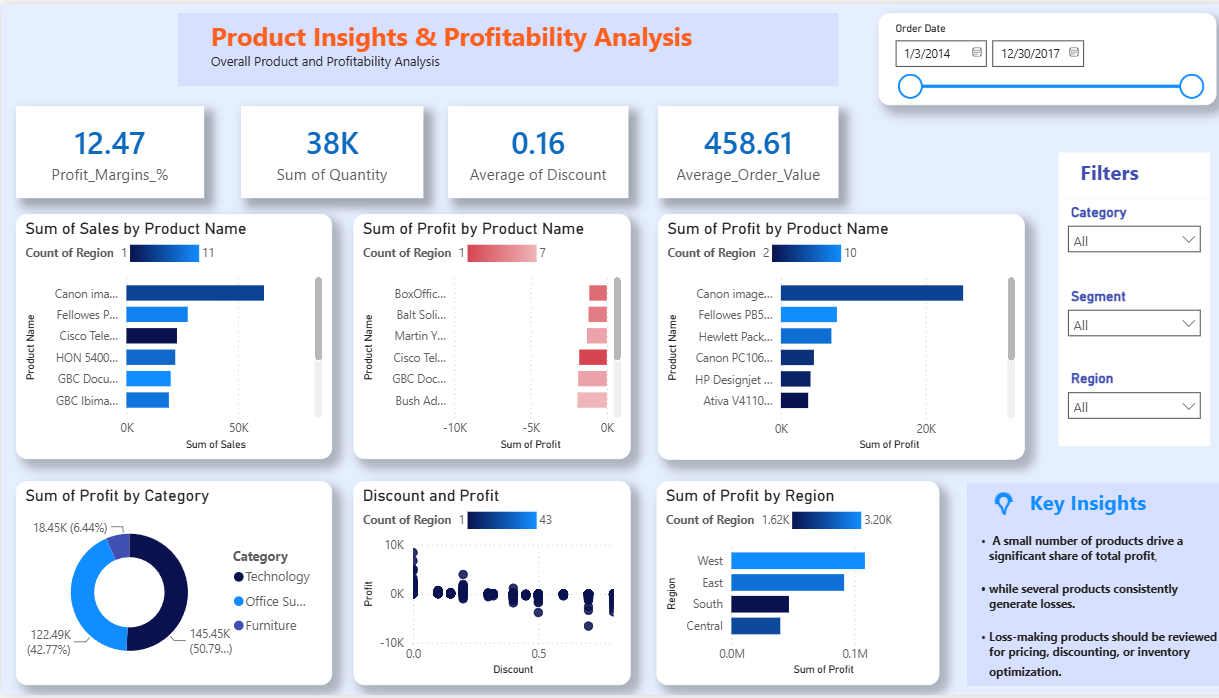

Layout of this report page (visuals, bound fields, positions):
{"tool":"powerbi","page":{"name":"Page 2","canvas":[1280,720],"ordinal":1},"visuals":[{"type":"cardVisual","fields":{"Data":["superstore_cleaned (1).Profit_Margins_%"]},"box":[16,106,196,96],"z":0},{"type":"cardVisual","fields":{"Data":["Avg(superstore_cleaned (1).Discount)"]},"box":[466,106,188,96],"z":1000},{"type":"cardVisual","fields":{"Data":["superstore_cleaned (1).Average_Order_Value"]},"box":[684,106,188,96],"z":2000},{"type":"cardVisual","fields":{"Data":["Sum(superstore_cleaned (1).Quantity)"]},"box":[250,106,190,96],"z":3000},{"type":"clusteredBarChart","fields":{"Category":["superstore_cleaned (1).Product Name"],"Y":["Sum(superstore_cleaned (1).Sales)"]},"box":[15.3,218.1,329.2,255.6],"z":4000},{"type":"clusteredBarChart","fields":{"Category":["superstore_cleaned (1).Product Name"],"Y":["Sum(superstore_cleaned (1).Profit)"]},"box":[684,218,382,256],"z":5000},{"type":"clusteredBarChart","fields":{"Category":["superstore_cleaned (1).Product Name"],"Y":["Sum(superstore_cleaned (1).Profit)"]},"box":[366.7,218.1,288.9,255.6],"z":6000},{"type":"donutChart","fields":{"Y":["Sum(superstore_cleaned (1).Profit)"],"Category":["superstore_cleaned (1).Category"]},"box":[15.3,497.2,329.2,212.5],"z":7000},{"type":"scatterChart","fields":{"X":["superstore_cleaned (1).Discount"],"Y":["superstore_cleaned (1).Profit"]},"box":[366.7,497.2,288.9,212.5],"z":8000},{"type":"clusteredBarChart","fields":{"Category":["superstore_cleaned (1).Region"],"Y":["Sum(superstore_cleaned (1).Profit)"]},"box":[683.3,497.2,294.4,212.5],"z":9000},{"type":"textbox","box":[184,10,688,76],"z":10000},{"type":"textbox","box":[1006,498,274,212],"z":11000},{"type":"slicer","fields":{"Values":["superstore_cleaned (1).Order Date"]},"box":[914,10,352,96],"z":12000},{"type":"slicer","fields":{"Values":["superstore_cleaned (1).Category"]},"box":[1102,202.7,158,88],"z":13000},{"type":"slicer","fields":{"Values":["superstore_cleaned (1).Segment"]},"box":[1102,290.7,158,86],"z":14000},{"type":"slicer","fields":{"Values":["superstore_cleaned (1).Region"]},"box":[1102,376.7,158,84],"z":15000},{"type":"textbox","box":[1102,154,158,48],"z":16000}]}

Visuals, with their boxes in screenshot pixels (x1, y1, x2, y2), scaled from the page's 1280x720 canvas onto the 1219x698 screenshot:
cardVisual - superstore_cleaned (1).Profit_Margins_%: left=15, top=103, right=202, bottom=196
cardVisual - Avg(superstore_cleaned (1).Discount): left=444, top=103, right=623, bottom=196
cardVisual - superstore_cleaned (1).Average_Order_Value: left=651, top=103, right=830, bottom=196
cardVisual - Sum(superstore_cleaned (1).Quantity): left=238, top=103, right=419, bottom=196
clusteredBarChart - superstore_cleaned (1).Product Name x Sum(superstore_cleaned (1).Sales): left=15, top=211, right=328, bottom=459
clusteredBarChart - superstore_cleaned (1).Product Name x Sum(superstore_cleaned (1).Profit): left=651, top=211, right=1015, bottom=460
clusteredBarChart - superstore_cleaned (1).Product Name x Sum(superstore_cleaned (1).Profit): left=349, top=211, right=624, bottom=459
donutChart - Sum(superstore_cleaned (1).Profit) x superstore_cleaned (1).Category: left=15, top=482, right=328, bottom=688
scatterChart - superstore_cleaned (1).Discount x superstore_cleaned (1).Profit: left=349, top=482, right=624, bottom=688
clusteredBarChart - superstore_cleaned (1).Region x Sum(superstore_cleaned (1).Profit): left=651, top=482, right=931, bottom=688
textbox: left=175, top=10, right=830, bottom=83
textbox: left=958, top=483, right=1218, bottom=688
slicer - superstore_cleaned (1).Order Date: left=870, top=10, right=1206, bottom=103
slicer - superstore_cleaned (1).Category: left=1049, top=197, right=1200, bottom=282
slicer - superstore_cleaned (1).Segment: left=1049, top=282, right=1200, bottom=365
slicer - superstore_cleaned (1).Region: left=1049, top=365, right=1200, bottom=447
textbox: left=1049, top=149, right=1200, bottom=196
